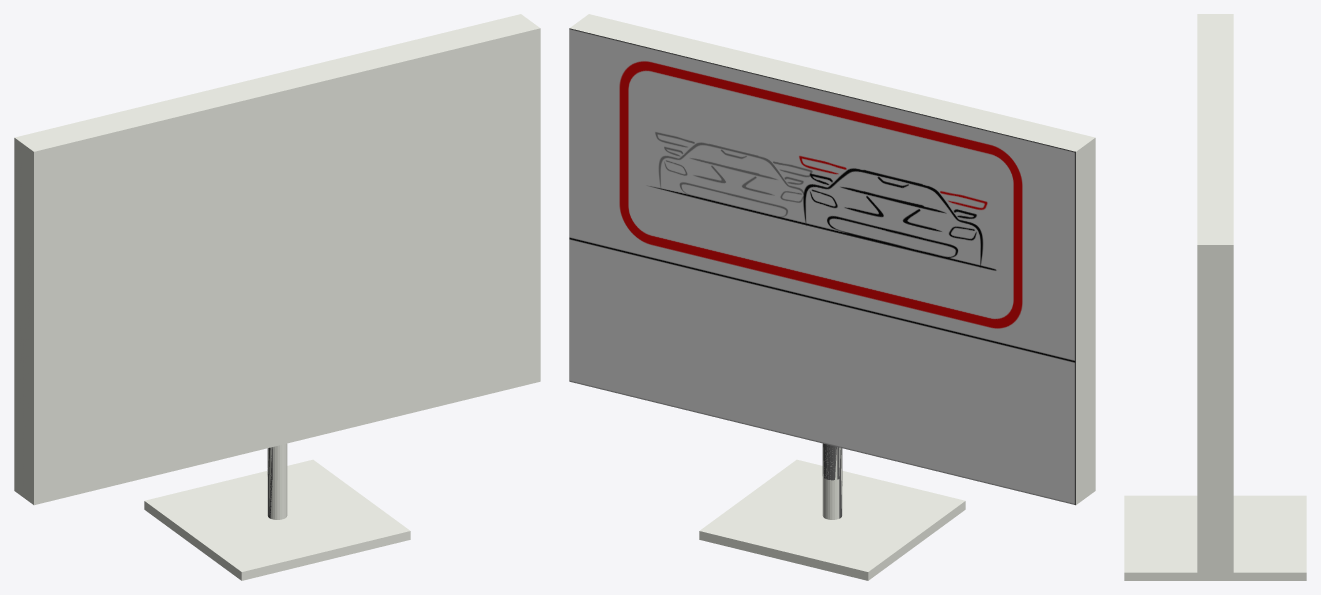
The model's file is overtaking_prohibited.dae.
The picture shows the model from 3 angles, left to right: view 1: azimuth 30°, elevation 25°; view 2: azimuth 150°, elevation 25°; view 3: azimuth 270°, elevation 25°; orthographic projection. The views are drawn at different scales.
Visible parts, largest first — view 1: Schild; view 2: Schild; view 3: Schild.
Boxes of the visible parts, box(x1,y1,x2,y2) form: Schild: box(14, 14, 540, 580); Schild: box(569, 14, 1095, 580); Schild: box(1124, 14, 1306, 580).
Bounding box in the file's own units: 0.3 × 0.1 × 0.25.
2 materials, 1 textured.
